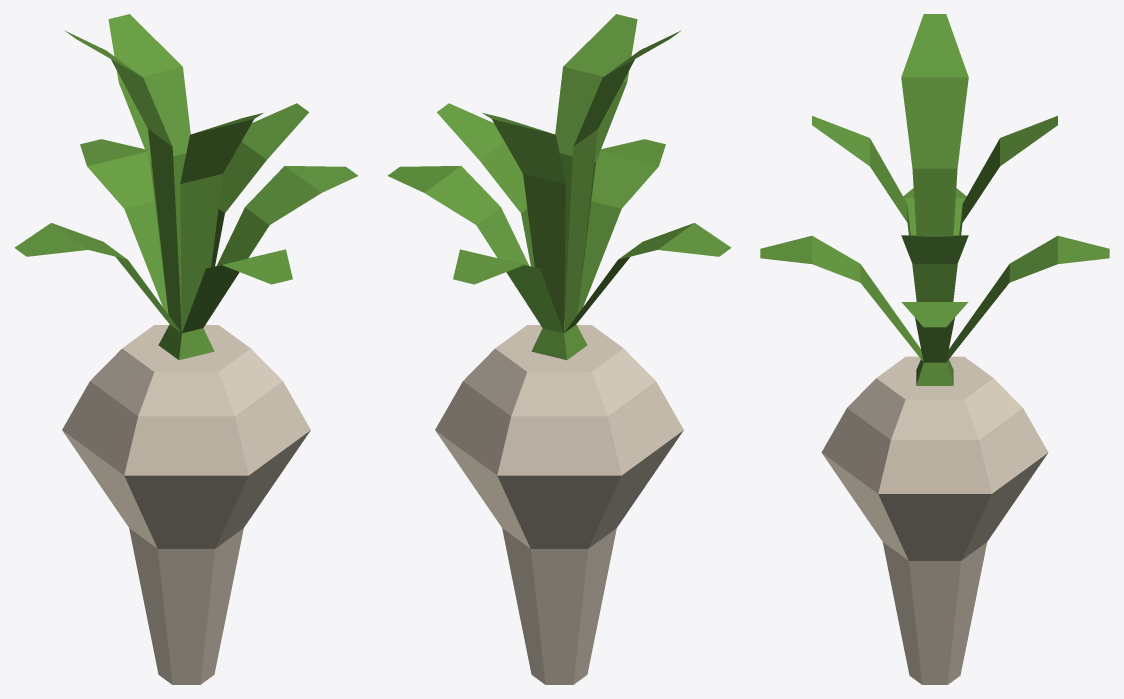
Rendered from crop_turnip.glb.
The picture shows the model from 3 angles, left to right: view 1: azimuth 30°, elevation 25°; view 2: azimuth 150°, elevation 25°; view 3: azimuth 270°, elevation 25°; orthographic projection. The views are drawn at different scales.
Visible parts, largest first — view 1: crop_turnip; view 2: crop_turnip; view 3: crop_turnip.
Part boxes in pixels (x1=…): crop_turnip: x1=14, y1=14, x2=358, y2=684; crop_turnip: x1=387, y1=14, x2=731, y2=684; crop_turnip: x1=760, y1=14, x2=1109, y2=684.
Size of the model in its own units: 0.3431 by 0.6607 by 0.3431.
